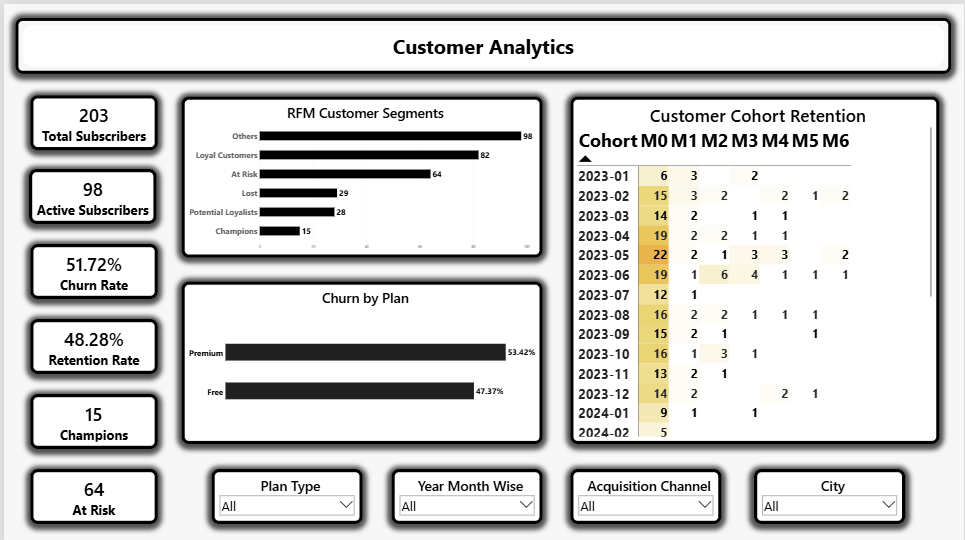

What the dashboard file says about the page in this screenshot:
{"tool":"powerbi","page":{"name":"Customer Analytics","canvas":[3840,2160],"ordinal":2},"visuals":[{"type":"textbox","box":[10,0,280,280],"z":0},{"type":"textbox","box":[105,622.5,510,225],"z":1000},{"type":"shape","box":[45,55,3745,225],"z":2000},{"type":"card","fields":{"Values":["Measures 3.Active Subscribers"]},"box":[100,660,510,220],"z":3000},{"type":"card","fields":{"Values":["Measures 3.Churn Rate"]},"box":[105,960,510,220],"z":4000},{"type":"card","fields":{"Values":["Measures 3.Retention Rate"]},"box":[105,1260,510,220],"z":5000},{"type":"card","fields":{"Values":["Measures 3.Champions"]},"box":[105,1560,510,220],"z":6000},{"type":"card","fields":{"Values":["Measures 3.At Risk"]},"box":[105,1860,510,220],"z":7000},{"type":"clusteredBarChart","title":"RFM Customer Segments","fields":{"Category":["rfm_customer.Segment"],"Y":["CountNonNull(rfm_customer.user_id)"]},"box":[710,370,1445,645],"z":8000},{"type":"barChart","title":"Churn by Plan","fields":{"Category":["users.plan_type"],"Y":["Measures 3.Churn Rate"]},"box":[710,1110,1445,650],"z":9000},{"type":"card","fields":{"Values":["Measures 3.Total Subscribers"]},"box":[105,365,510,220],"z":10000},{"type":"slicer","title":"Year Month Wise","fields":{"Values":["Calendar.Year Month"]},"box":[1550,1860,605,220],"z":11000},{"type":"slicer","title":"City","fields":{"Values":["users.city"]},"box":[3000,1860,605,220],"z":12000},{"type":"slicer","title":"Plan Type","fields":{"Values":["users.plan_type"]},"box":[830,1860,605,220],"z":13000},{"type":"slicer","title":"Acquisition Channel","fields":{"Values":["users.acquisition_channel"]},"box":[2265,1860,605,220],"z":14000},{"type":"pivotTable","title":"Customer Cohort Retention","fields":{"Columns":["cohort_retention.Month Label"],"Rows":["cohort_retention.cohort_month"],"Values":["Sum(cohort_retention.retained_users)"]},"box":[2263.3,370,1476.7,1390],"z":15000}]}

Visuals, with their boxes in screenshot pixels (x1, y1, x2, y2), scaled from the page's 3840x2160 canvas onto the 965x540 screenshot:
textbox: Rect(3, 0, 73, 70)
textbox: Rect(26, 156, 155, 212)
shape: Rect(11, 14, 952, 70)
card - Measures 3.Active Subscribers: Rect(25, 165, 153, 220)
card - Measures 3.Churn Rate: Rect(26, 240, 155, 295)
card - Measures 3.Retention Rate: Rect(26, 315, 155, 370)
card - Measures 3.Champions: Rect(26, 390, 155, 445)
card - Measures 3.At Risk: Rect(26, 465, 155, 520)
"RFM Customer Segments" clusteredBarChart: Rect(178, 92, 542, 254)
"Churn by Plan" barChart: Rect(178, 278, 542, 440)
card - Measures 3.Total Subscribers: Rect(26, 91, 155, 146)
"Year Month Wise" slicer: Rect(390, 465, 542, 520)
"City" slicer: Rect(754, 465, 906, 520)
"Plan Type" slicer: Rect(209, 465, 361, 520)
"Acquisition Channel" slicer: Rect(569, 465, 721, 520)
"Customer Cohort Retention" pivotTable: Rect(569, 92, 940, 440)
